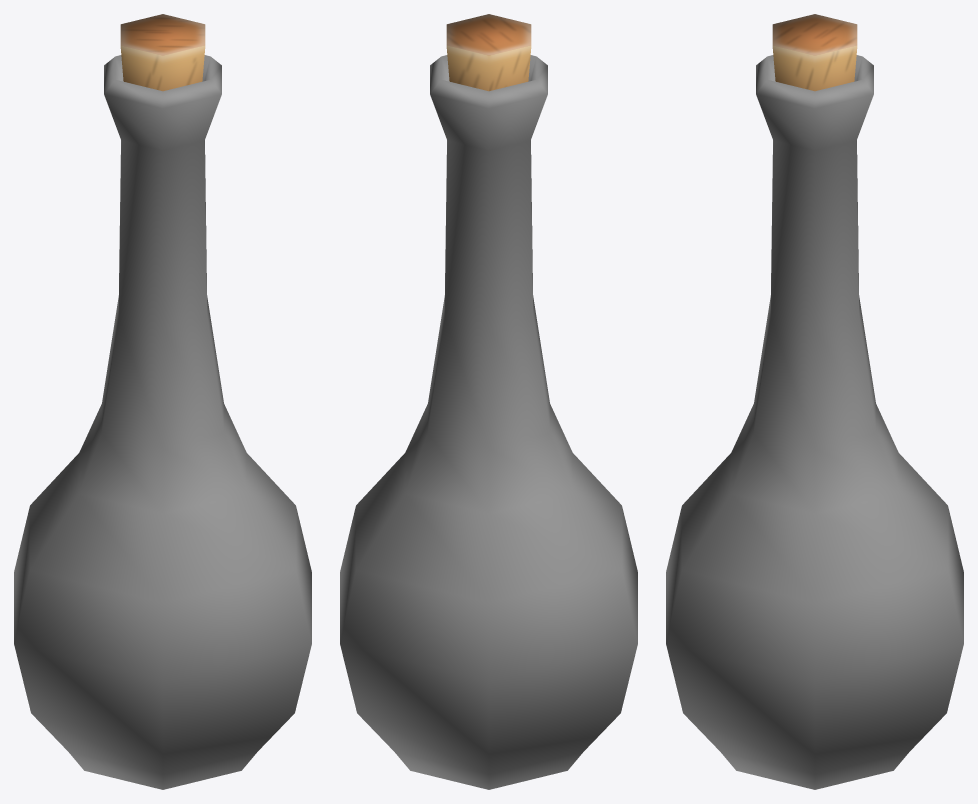
File: Concoction.fbx
3 views of the same model, side by side, from view 1: azimuth 30°, elevation 25°; view 2: azimuth 150°, elevation 25°; view 3: azimuth 270°, elevation 25° (orthographic).
Parts seen in each view (by area): view 1: Concoction, Cork; view 2: Concoction, Cork; view 3: Concoction, Cork.
Part boxes in pixels (x1,y1,x2,y2): Concoction: (14,55,311,789); Cork: (120,14,205,91); Concoction: (340,55,637,789); Cork: (446,14,531,91); Concoction: (666,55,963,789); Cork: (772,14,857,91).
Size of the model in its own units: 14.01 by 32.23 by 12.13.
